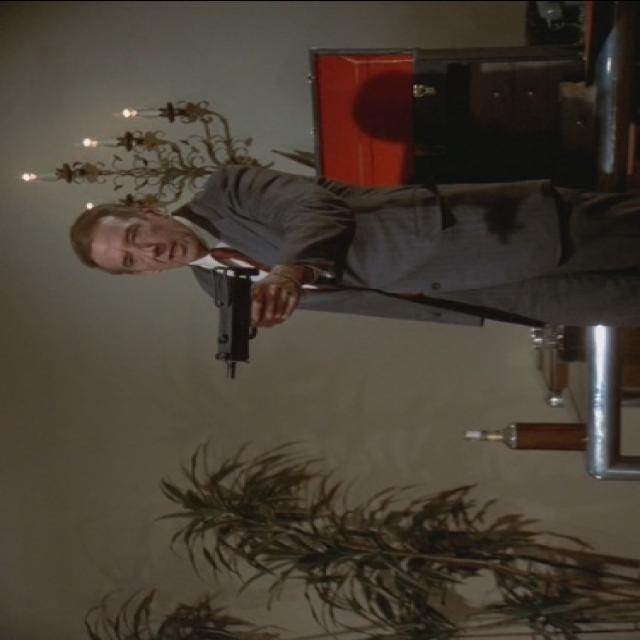weapons: (202, 255, 314, 382)
